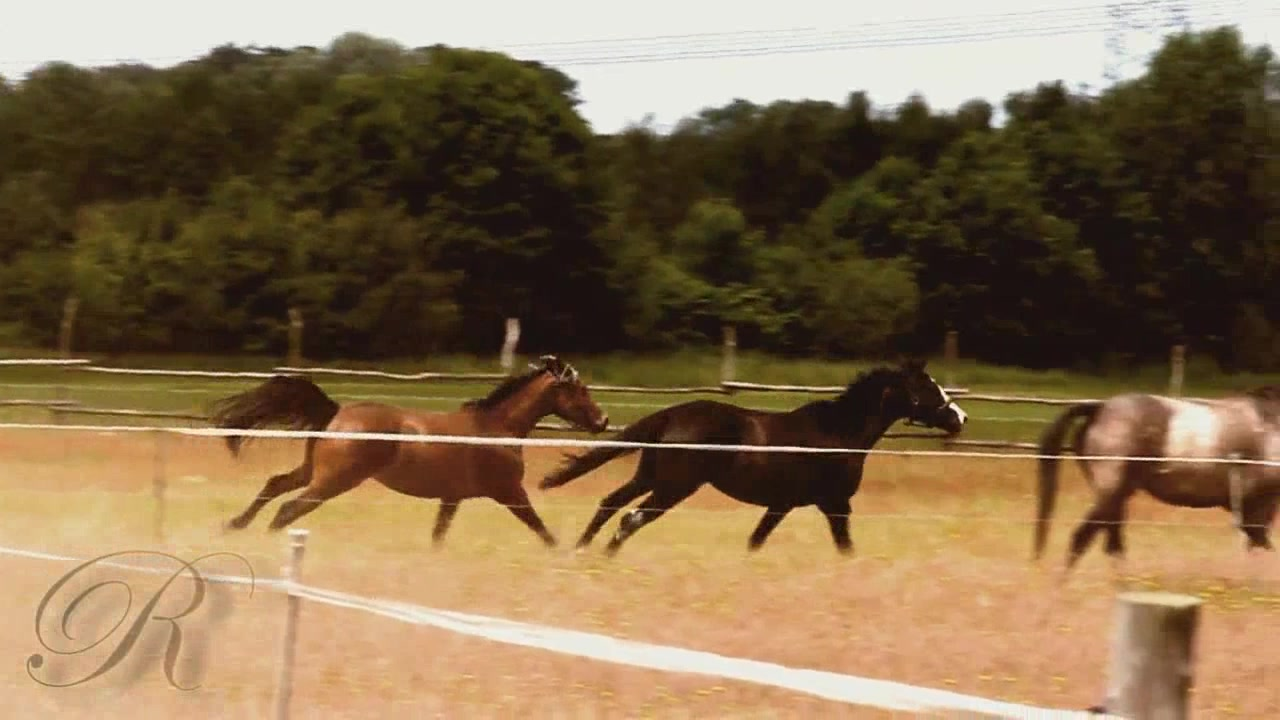horse: (537, 355, 965, 560), (207, 354, 615, 557), (1029, 388, 1280, 581)
